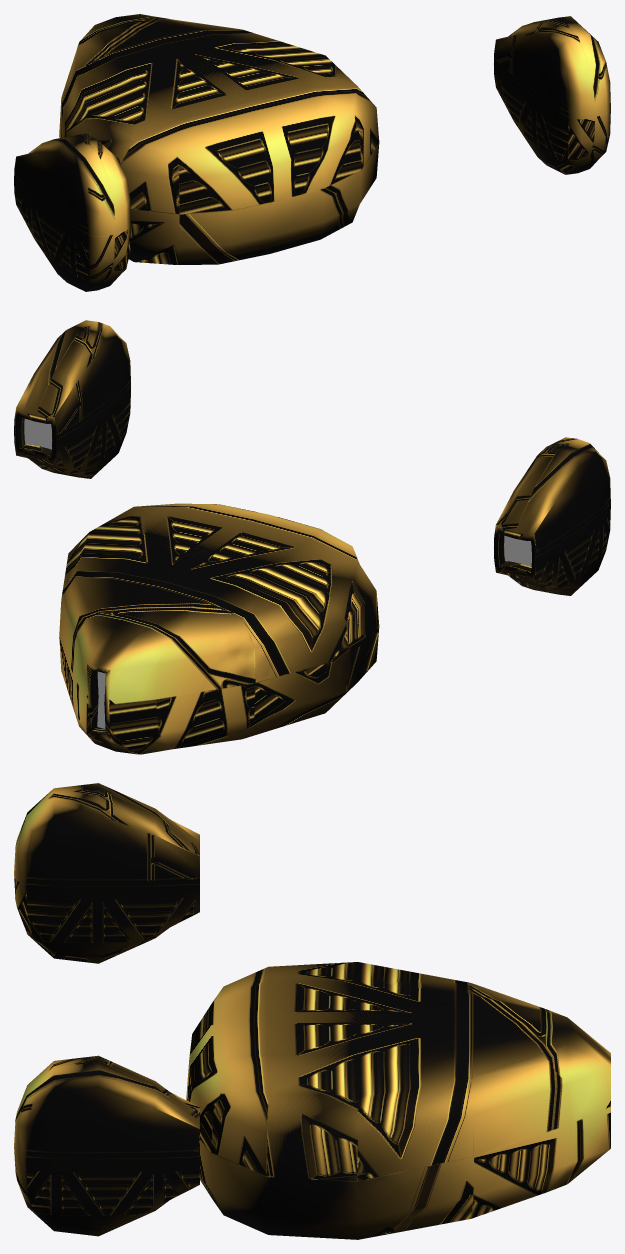
Rendered from engine3NEW.fbx.
3 renders of one model, top to bottom at view 1: azimuth 30°, elevation 25°; view 2: azimuth 150°, elevation 25°; view 3: azimuth 270°, elevation 25°, orthographic. The views are drawn at different scales.
Visible parts, largest first — view 1: engine2.3NEW, engine3NEW; view 2: engine2.3NEW, engine3NEW, engine3NeonNEW; view 3: engine2.3NEW, engine3NEW.
Boxes of the visible parts, x1,y1,x2,y2 form: engine2.3NEW: [59, 14, 379, 264]; engine3NEW: [14, 16, 610, 291]; engine2.3NEW: [59, 503, 379, 754]; engine3NEW: [14, 320, 610, 595]; engine3NeonNEW: [24, 418, 531, 728]; engine2.3NEW: [186, 962, 610, 1239]; engine3NEW: [14, 783, 199, 1236].
Size of the model in its own units: 10.09 by 8.44 by 4.09.
